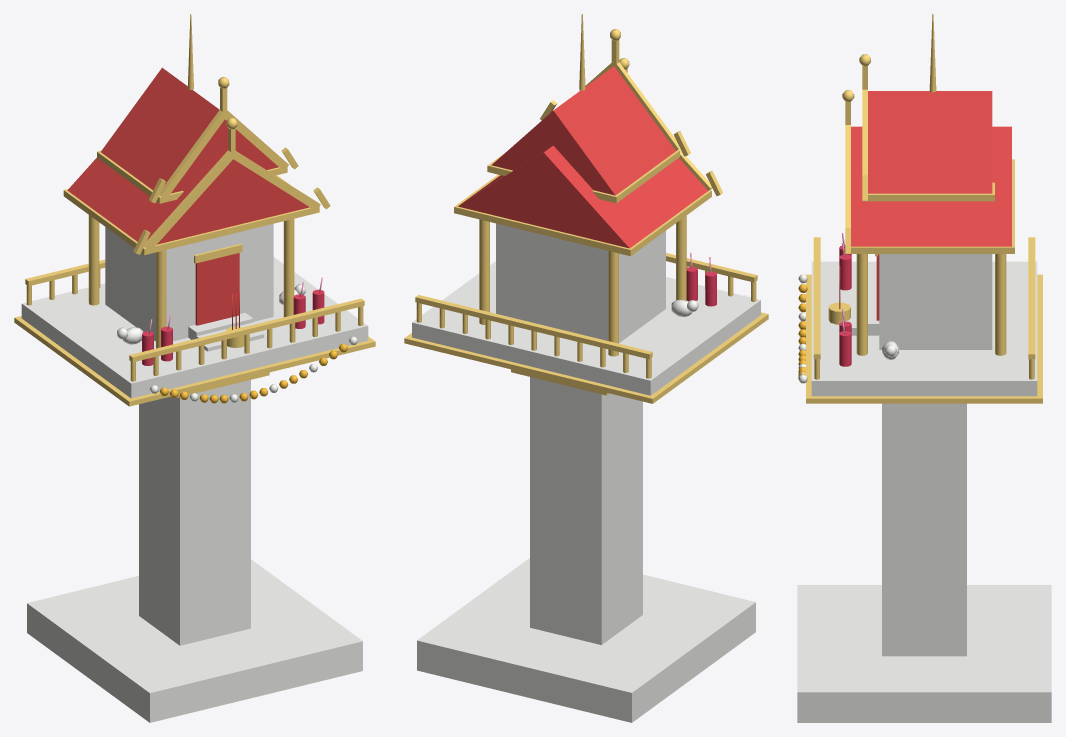
File: SM_SpiritHouse.fbx
3 renders of one model, left to right at view 1: azimuth 30°, elevation 25°; view 2: azimuth 150°, elevation 25°; view 3: azimuth 270°, elevation 25°, orthographic. The views are drawn at different scales.
Parts seen in each view (by area): view 1: SpiritHouse_Body, SpiritHouse_Offerings; view 2: SpiritHouse_Body, SpiritHouse_Offerings; view 3: SpiritHouse_Body, SpiritHouse_Offerings.
Part boxes in pixels (x1,y1,x2,y2): SpiritHouse_Body: (14,14,375,722); SpiritHouse_Offerings: (142,277,357,403); SpiritHouse_Body: (404,14,768,722); SpiritHouse_Offerings: (686,252,748,306); SpiritHouse_Body: (797,14,1051,722); SpiritHouse_Offerings: (798,233,851,383).
Size of the model in its own units: 1.04 by 2.56 by 0.9.
